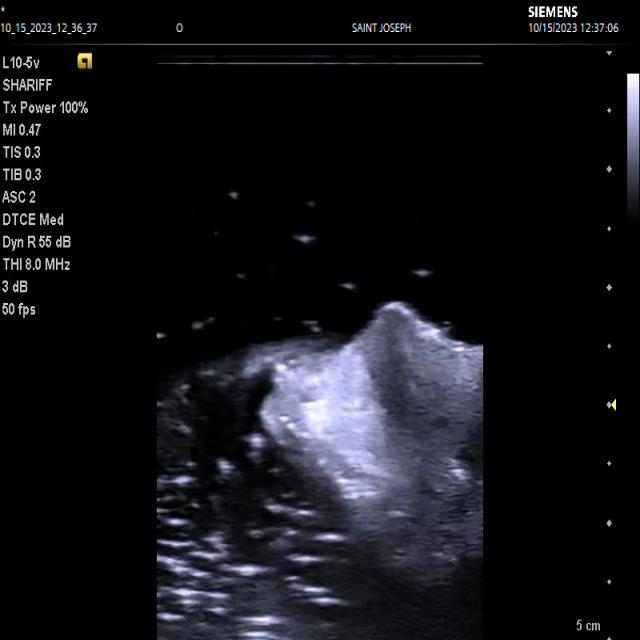tissue: (241, 301, 486, 592)
